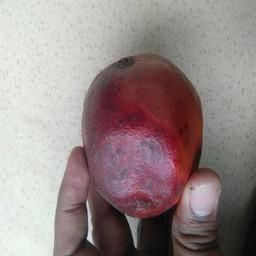Bad_pomegranate: (78, 51, 203, 224)
